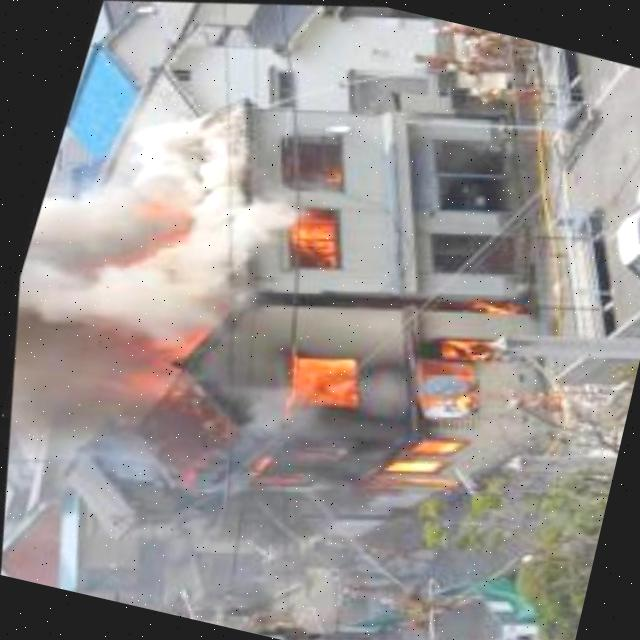fire: (83, 186, 637, 594), (255, 147, 358, 277)
